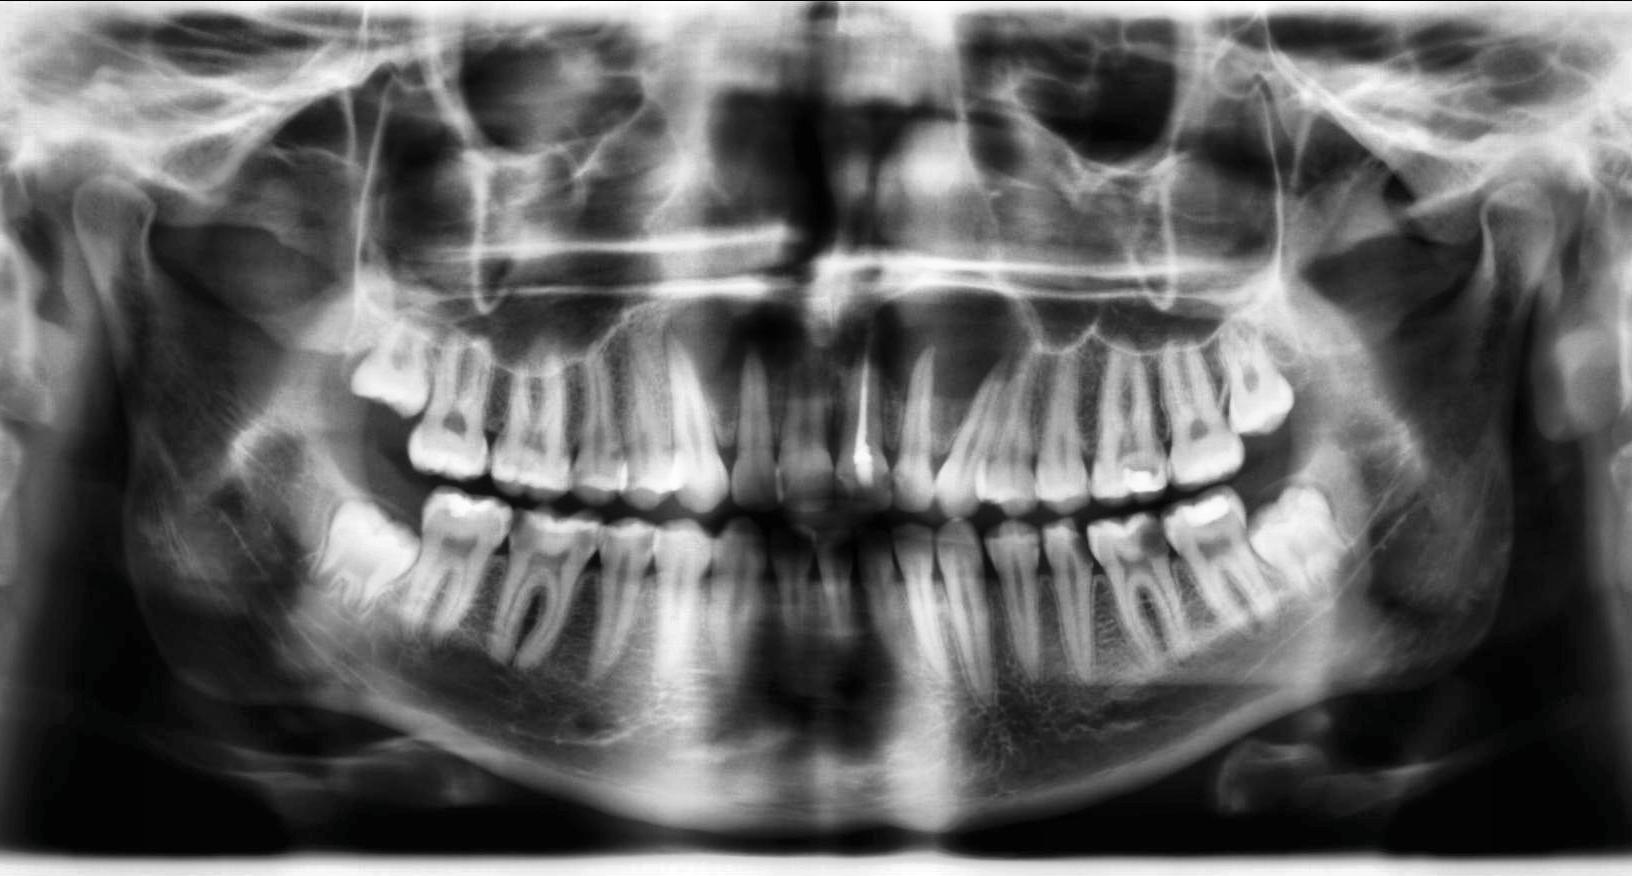radikuler: (663, 284, 1032, 424)
